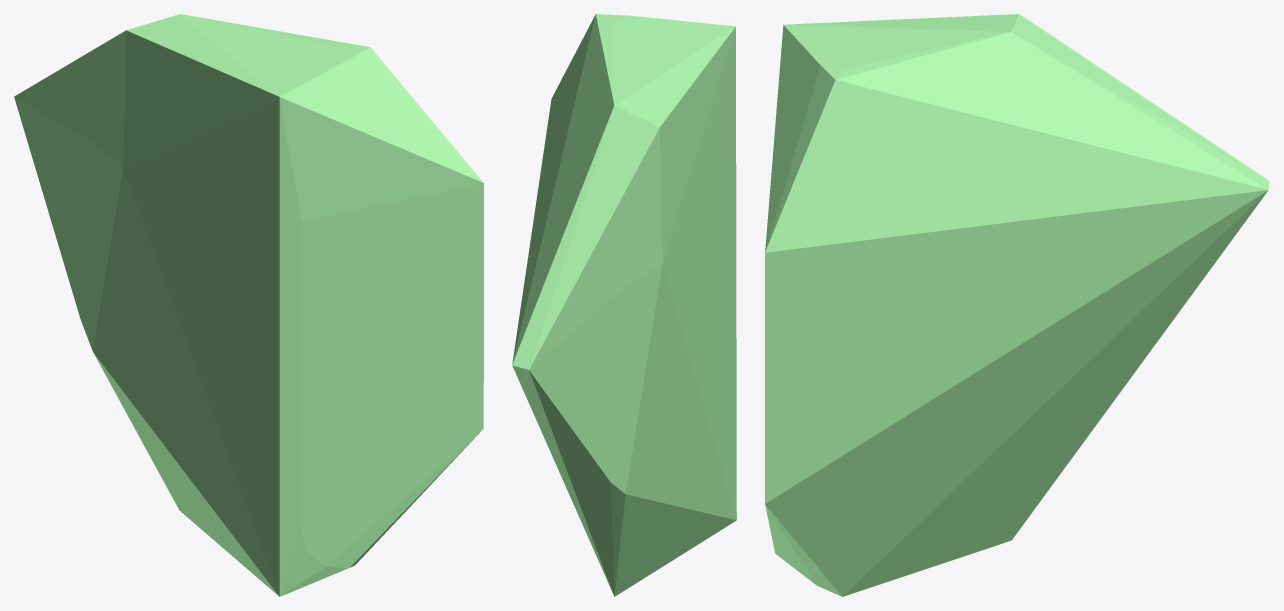
File: dxxx_L2_respondable_PSM1_coll_14.dae
3 views of the same model, side by side, from view 1: azimuth 30°, elevation 25°; view 2: azimuth 150°, elevation 25°; view 3: azimuth 270°, elevation 25° (orthographic). The views are drawn at different scales.
Parts seen in each view (by area): view 1: Node_000001D818CB9BA0; view 2: Node_000001D818CB9BA0; view 3: Node_000001D818CB9BA0.
Boxes of the visible parts, bbox=[...] form: Node_000001D818CB9BA0: bbox=[14, 14, 483, 596]; Node_000001D818CB9BA0: bbox=[512, 14, 736, 596]; Node_000001D818CB9BA0: bbox=[765, 14, 1269, 596].
Size of the model in its own units: 0.0401 by 0.082 by 0.0724.
